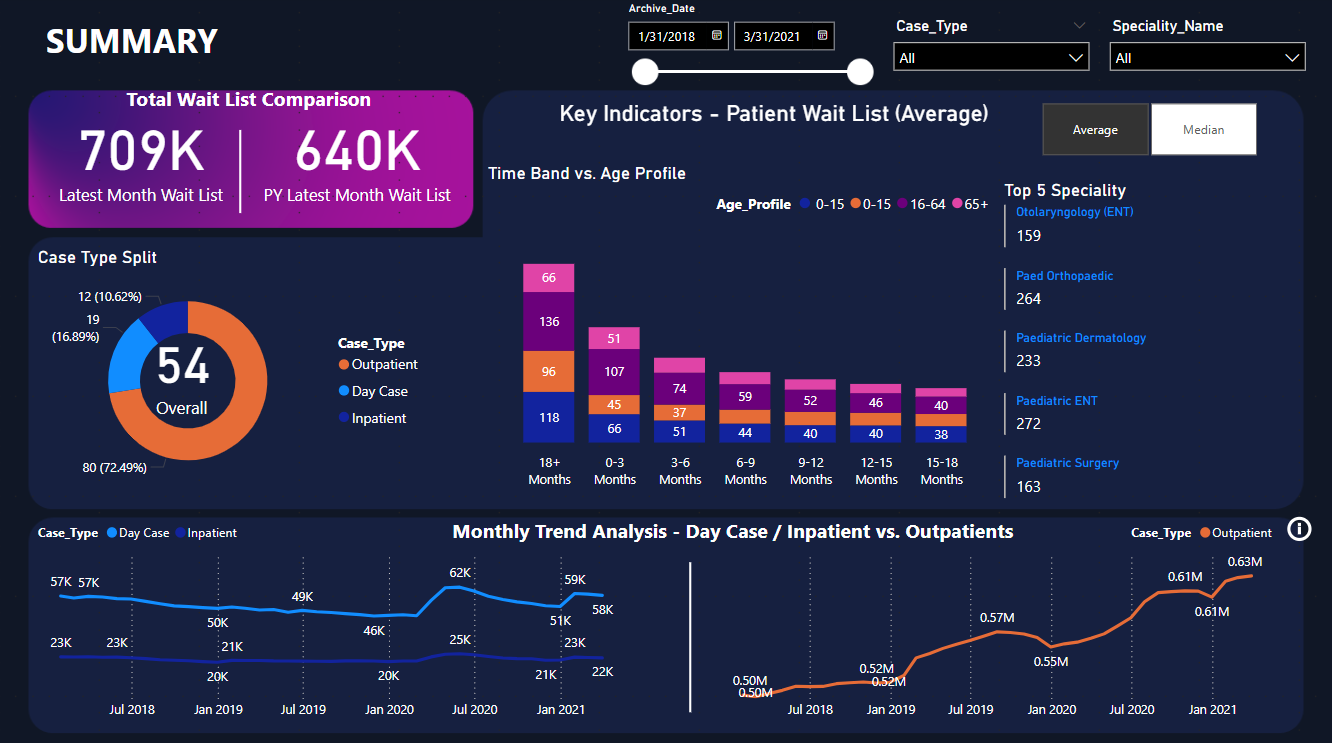

The dashboard page shown, as its layout file describes it:
{"tool":"powerbi","page":{"name":"Summary","canvas":[1280,720],"ordinal":0},"visuals":[{"type":"card","fields":{"Values":["All_Data.Latest Month Wait List"]},"box":[32,96,208,112],"z":0},{"type":"card","fields":{"Values":["All_Data.PY Latest Month Wait List"]},"box":[240,96,208,112],"z":1000},{"type":"slicer","fields":{"Values":["Calculation Method.Calc Method"]},"box":[976,96,256,64],"z":2000},{"type":"donutChart","title":"Case Type Split","fields":{"Category":["All_Data.Case_Type"],"Y":["All_Data.Avg/Med Wait List"]},"box":[32,240,384,240],"z":3000},{"type":"columnChart","title":"Time Band vs. Age Profile","fields":{"Y":["All_Data.Avg/Med Wait List"],"Category":["All_Data.Time_Bands"],"Series":["All_Data.Age_Profile"]},"box":[464,160,496,320],"z":4000},{"type":"multiRowCard","title":"Top 5 Speciality","fields":{"Values":["All_Data.Speciality_Name","All_Data.Avg/Med Wait List"]},"box":[960,176,272,352],"z":5000},{"type":"card","fields":{"Values":["All_Data.NoDataLeft"]},"box":[192,576,224,96],"z":6000},{"type":"lineChart","fields":{"Category":["All_Data.Archive_Date"],"Series":["All_Data.Case_Type"],"Y":["Sum(All_Data.Total)"]},"box":[32,496,576,208],"z":7000},{"type":"card","fields":{"Values":["All_Data.NoDataRight"]},"box":[800,544,304,144],"z":8000},{"type":"lineChart","fields":{"Category":["All_Data.Archive_Date"],"Series":["All_Data.Case_Type"],"Y":["Sum(All_Data.Total)"]},"box":[688,496,544,208],"z":9000},{"type":"slicer","fields":{"Values":["All_Data.Case_Type"]},"box":[848,16,208,64],"z":10000},{"type":"slicer","fields":{"Values":["All_Data.Speciality_Name"]},"box":[1056,16,208,64],"z":11000},{"type":"slicer","title":"Archive Date","fields":{"Values":["All_Data.Archive_Date"]},"box":[592,0,256,96],"z":12000},{"type":"textbox","box":[16,16,224,64],"z":13000},{"type":"card","fields":{"Values":["All_Data.Avg/Med Wait List"]},"box":[112,304,128,112],"z":14000},{"type":"shape","box":[160,128,144,80],"z":15000},{"type":"textbox","box":[272,496,864,48],"z":16000},{"type":"shape","box":[592,544,144,144],"z":17000},{"type":"textbox","box":[96,80,288,48],"z":18000},{"type":"card","fields":{"Values":["All_Data.Dynamic Title"]},"box":[528,80,432,64],"z":19000},{"type":"actionButton","box":[1232,496,32,32],"z":20000}]}

Visuals, with their boxes in screenshot pixels (x1, y1, x2, y2), scaled from the page's 1280x720 canvas onto the 1332x743 screenshot:
card - All_Data.Latest Month Wait List: (33,99,250,215)
card - All_Data.PY Latest Month Wait List: (250,99,466,215)
slicer - Calculation Method.Calc Method: (1016,99,1282,165)
"Case Type Split" donutChart: (33,248,433,495)
"Time Band vs. Age Profile" columnChart: (483,165,999,495)
"Top 5 Speciality" multiRowCard: (999,182,1282,545)
card - All_Data.NoDataLeft: (200,594,433,693)
lineChart - All_Data.Archive_Date x All_Data.Case_Type: (33,512,633,726)
card - All_Data.NoDataRight: (832,561,1149,710)
lineChart - All_Data.Archive_Date x All_Data.Case_Type: (716,512,1282,726)
slicer - All_Data.Case_Type: (882,17,1099,83)
slicer - All_Data.Speciality_Name: (1099,17,1315,83)
"Archive Date" slicer: (616,0,882,99)
textbox: (17,17,250,83)
card - All_Data.Avg/Med Wait List: (117,314,250,429)
shape: (166,132,316,215)
textbox: (283,512,1182,561)
shape: (616,561,766,710)
textbox: (100,83,400,132)
card - All_Data.Dynamic Title: (549,83,999,149)
actionButton: (1282,512,1315,545)
